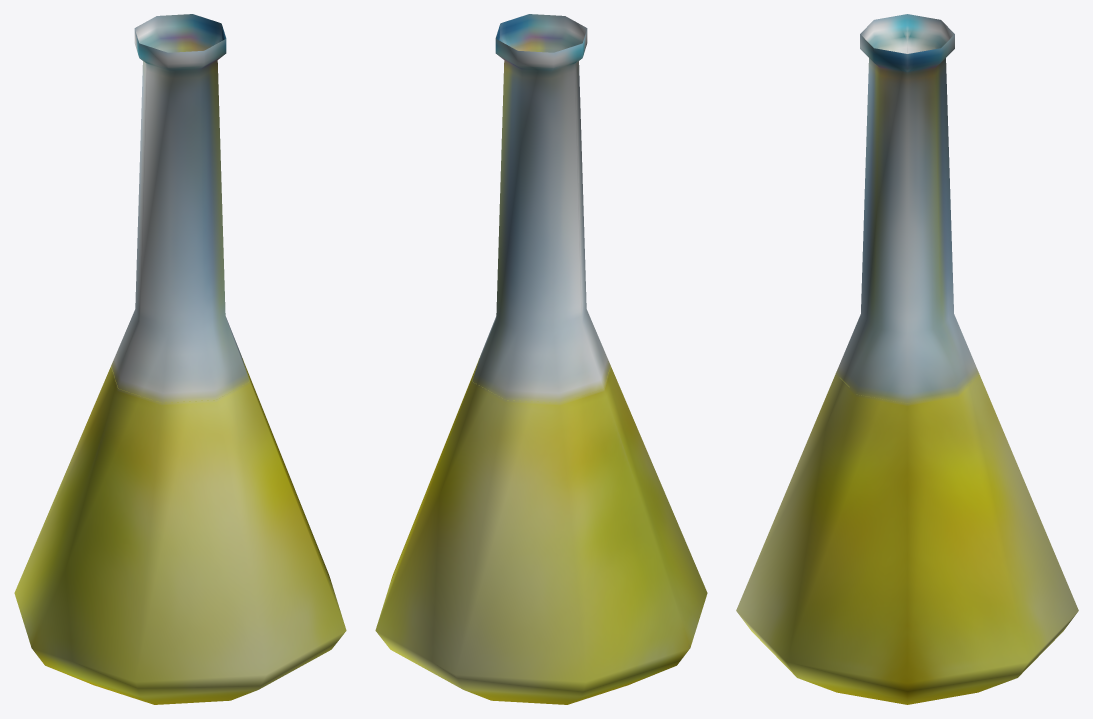
Rendered from WuZhengDiaoChaKe_01_beizi_02.FBX.
3 renders of one model, left to right at view 1: azimuth 30°, elevation 25°; view 2: azimuth 150°, elevation 25°; view 3: azimuth 270°, elevation 25°, orthographic.
Parts seen in each view (by area): view 1: WuZhengDiaoChaKe_01_beizi_02; view 2: WuZhengDiaoChaKe_01_beizi_02; view 3: WuZhengDiaoChaKe_01_beizi_02.
Part boxes in pixels (box(x1,y1,x2,y2)): WuZhengDiaoChaKe_01_beizi_02: box(14, 14, 346, 704); WuZhengDiaoChaKe_01_beizi_02: box(375, 14, 707, 704); WuZhengDiaoChaKe_01_beizi_02: box(736, 14, 1078, 704).
Bounding box in the file's own units: 65.03 × 132 × 65.03.
